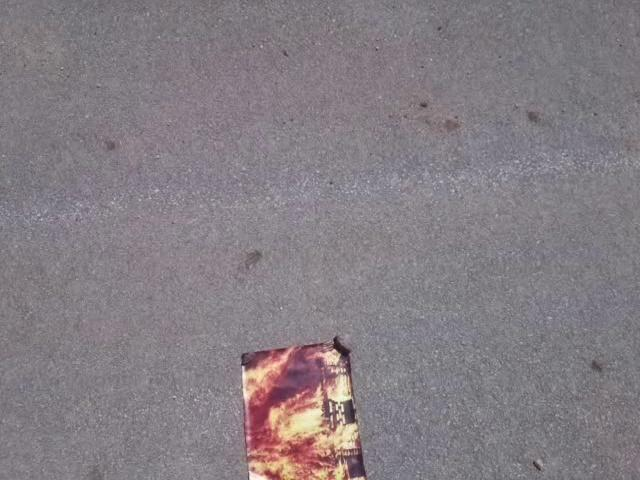fire-poster: (238, 335, 371, 479)
